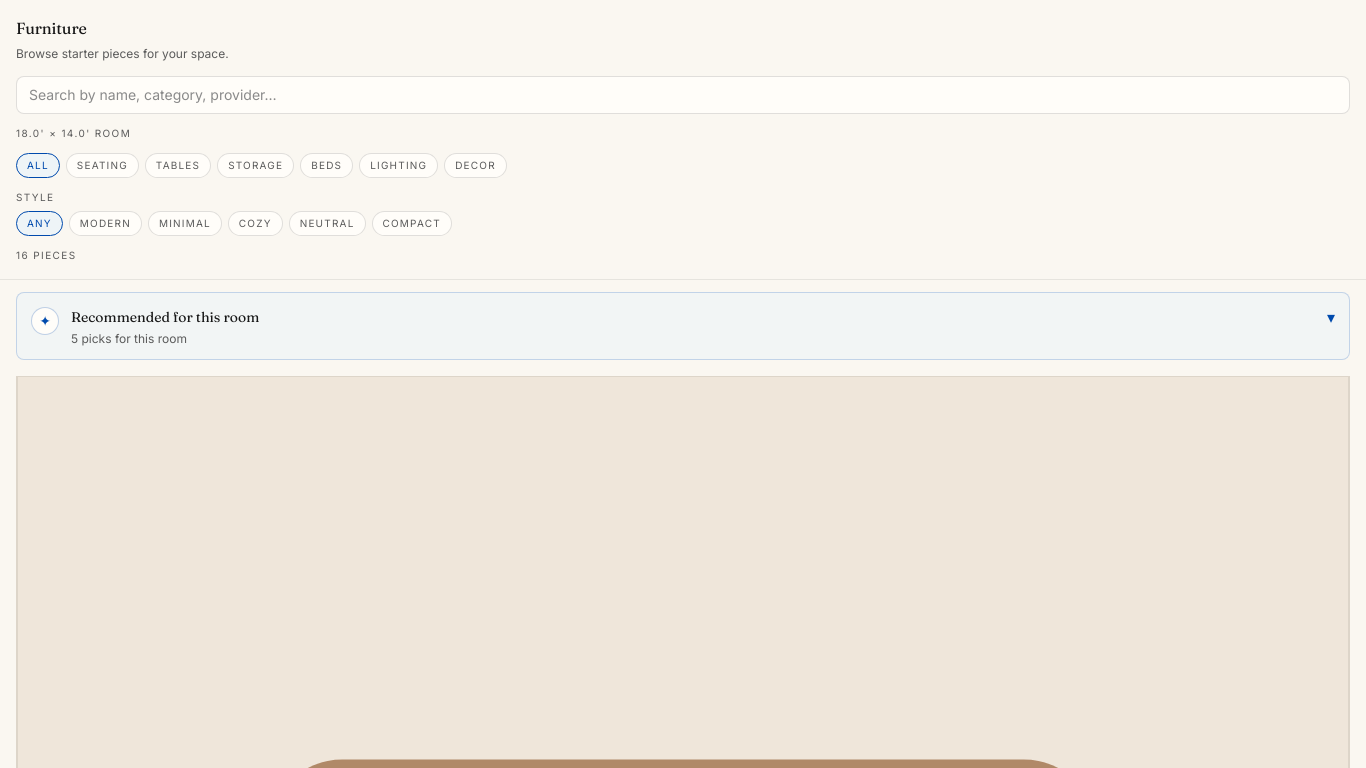
Scenario: FurnitureCatalogPanel › Recommended for this room section › renders metrics summary (room bucket + open area) when expanded
Click the button "Storage" at (256, 165), box x1=217 y1=152 x2=294 y2=178
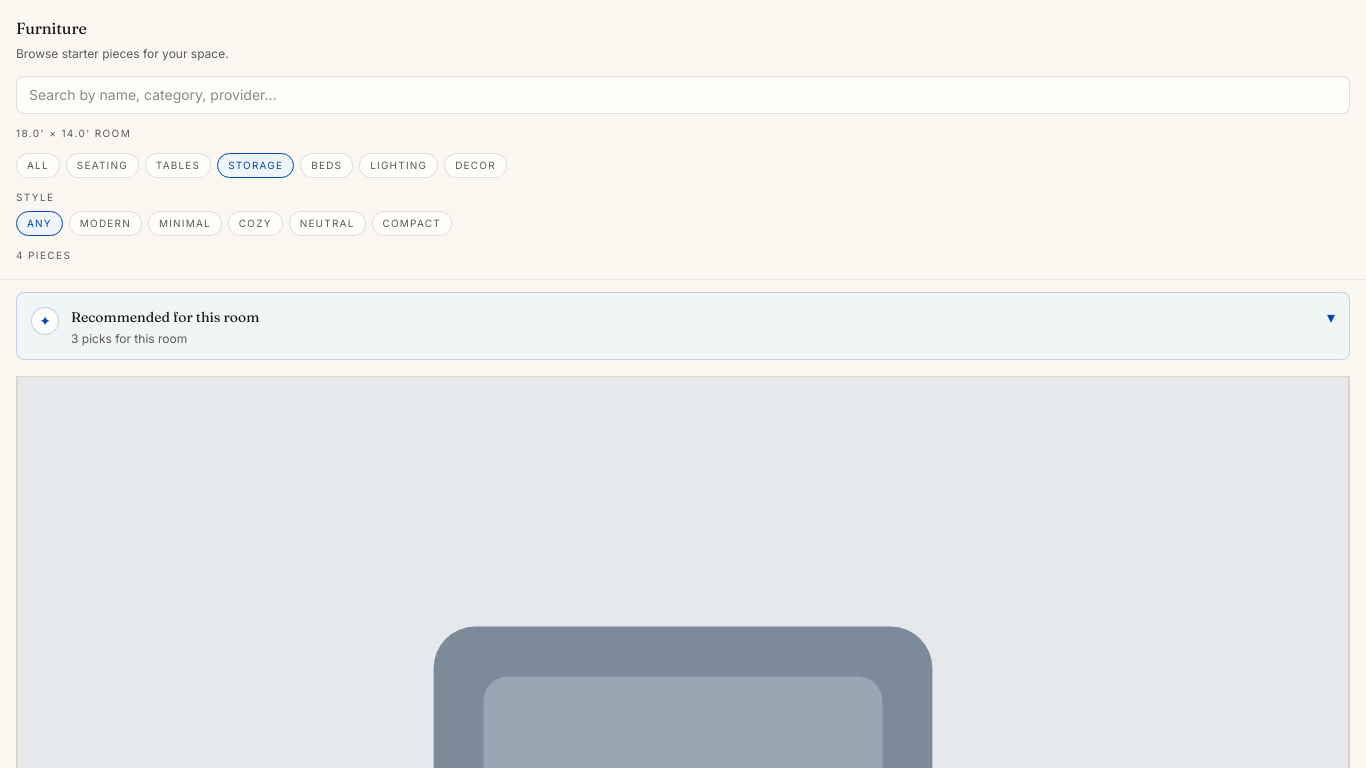
Click the button with test id "recommended-collapsible-trigger" at (165, 316), box x1=16 y1=292 x2=1350 y2=360
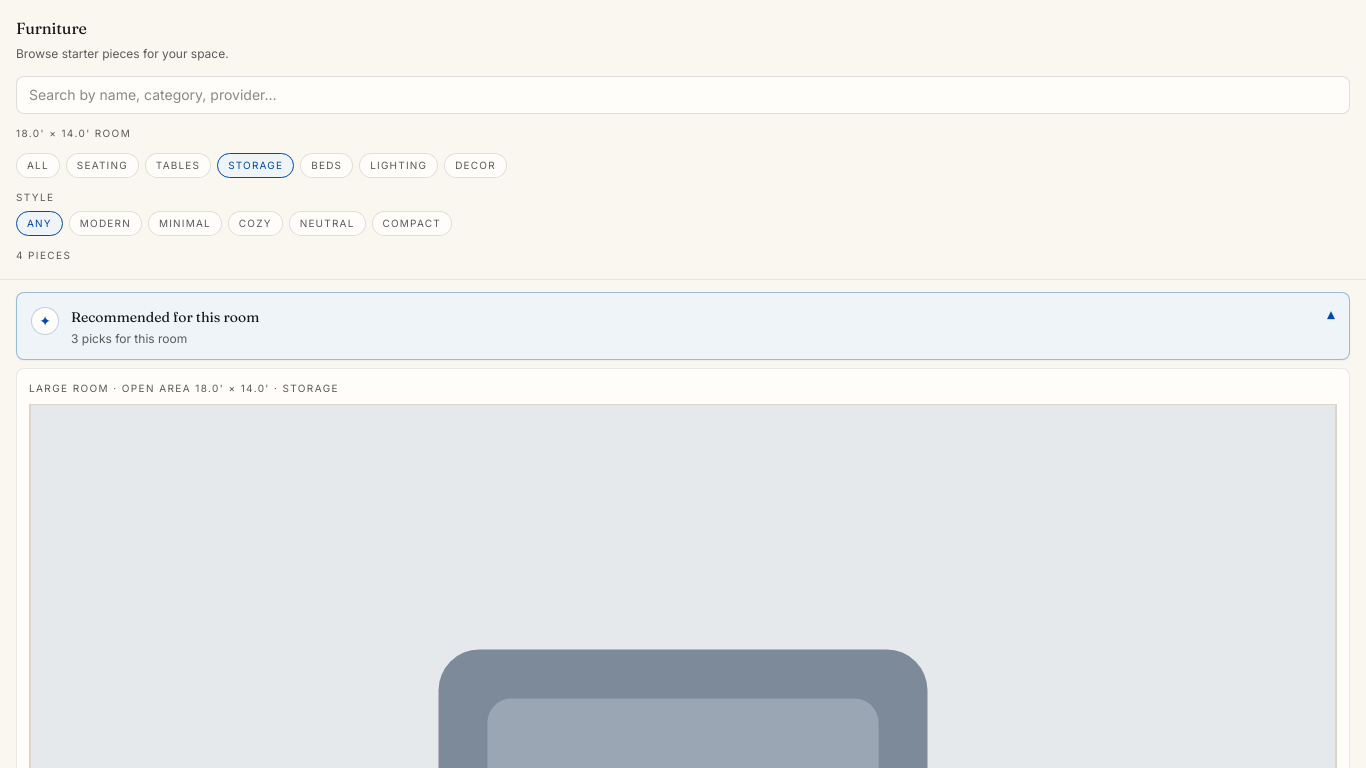
Expected: the text "large room · open area 18.0' × 14.0' · Storage" is shown, x1=29 y1=382 x2=339 y2=394
Expected: the text with test id "recommendation-metrics" reads "large room · open area 18.0' × 14.0' · Storage", x1=29 y1=382 x2=68 y2=394
Expected: the text with test id "recommendation-metrics" shows "open area", x1=68 y1=382 x2=191 y2=394
